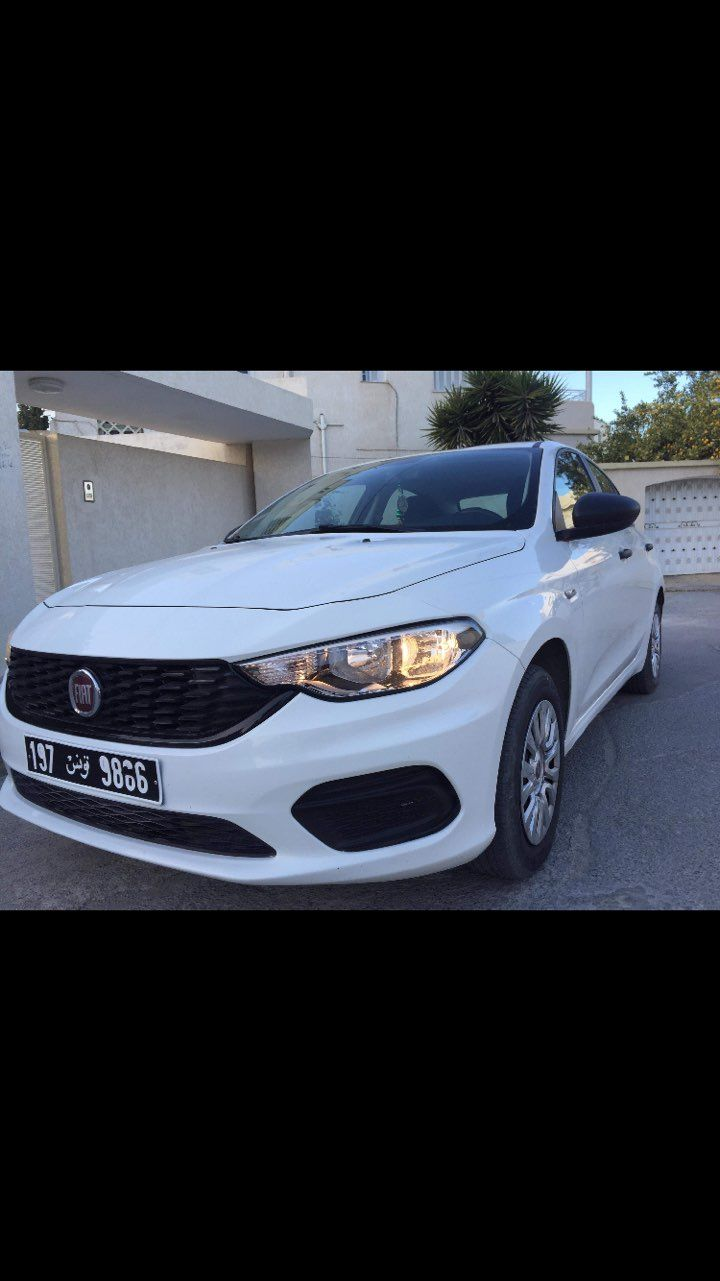LP: (21, 733, 166, 810)
